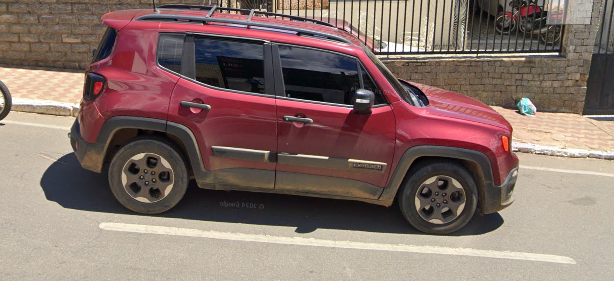car: (64, 1, 533, 240)
